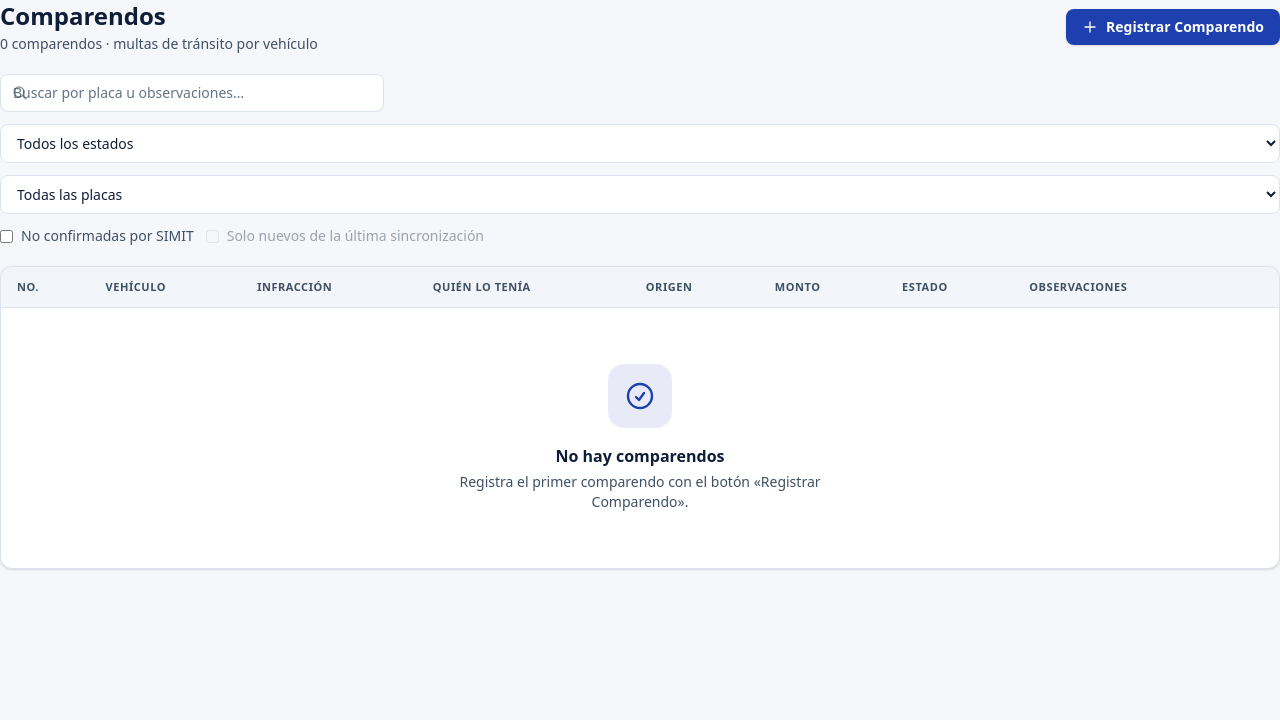
Test: página de Comparendos › registra un comparendo desde el modal
Check: the heading "No hay comparendos" is shown, box x1=556 y1=444 x2=724 y2=468
Click the button "Registrar Comparendo" at coordinates (1173, 27), box x1=1066 y1=9 x2=1279 y2=45
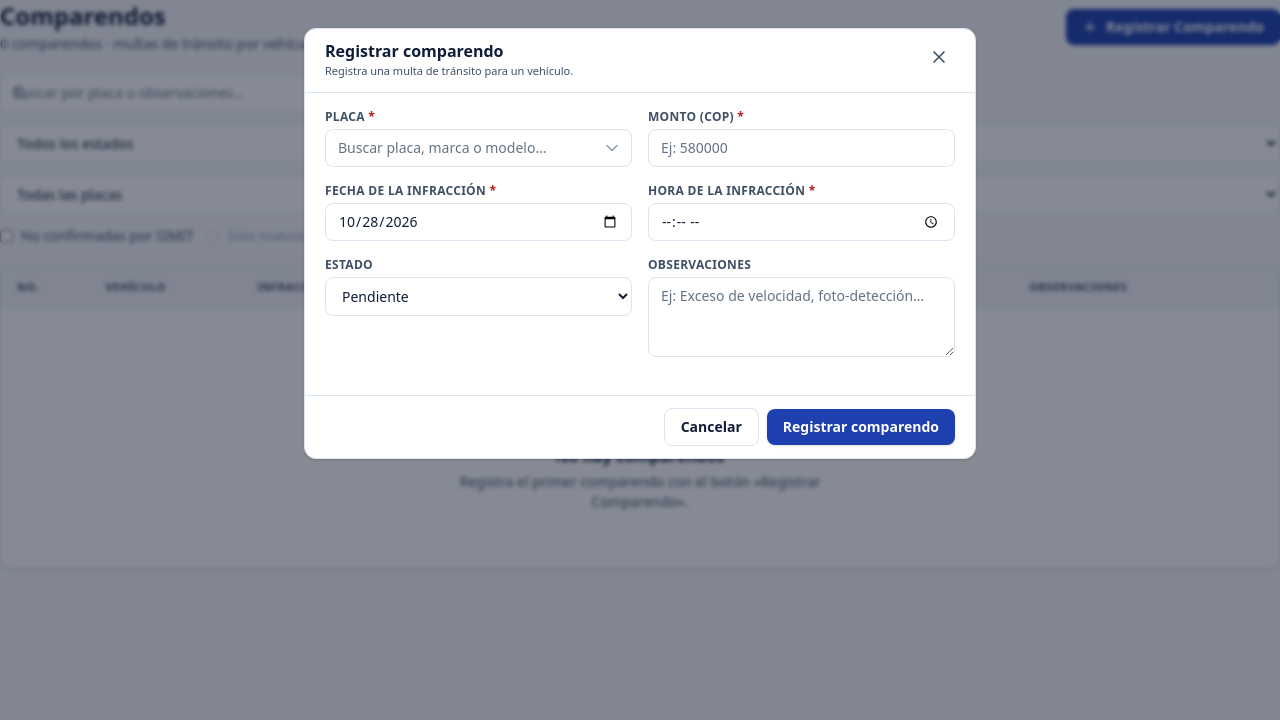
Check: the dialog is shown
// Placa: combobox con búsqueda (escribir placa + Enter selecciona la coincidencia)
Type "ABC123" into the dropdown with placeholder "Buscar placa, marca o modelo…" at coordinates (478, 148), box x1=325 y1=128 x2=632 y2=166
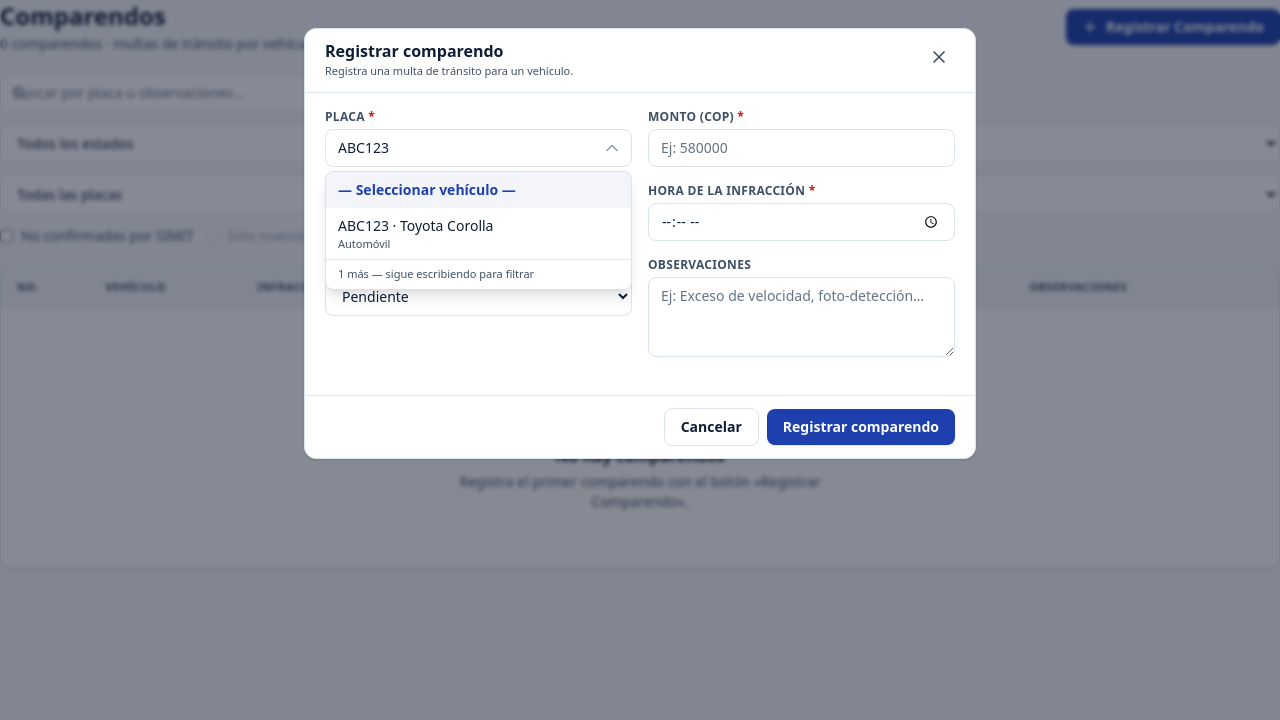
Press Enter in the dropdown with placeholder "Buscar placa, marca o modelo…", box x1=325 y1=128 x2=632 y2=166
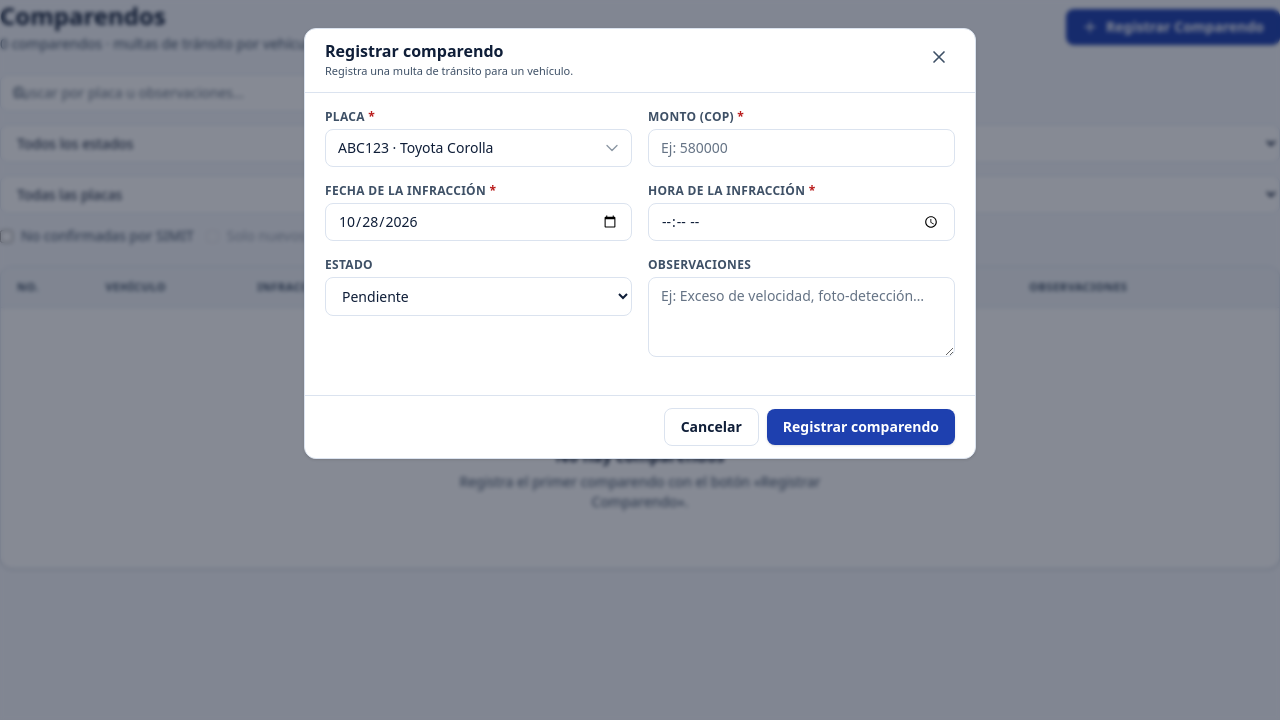
Type "580000" into the field with placeholder "Ej: 580000" at coordinates (802, 148), box x1=648 y1=128 x2=955 y2=166
Type "14:30" into the time field with placeholder "HH:MM" at coordinates (802, 222), box x1=648 y1=202 x2=955 y2=241
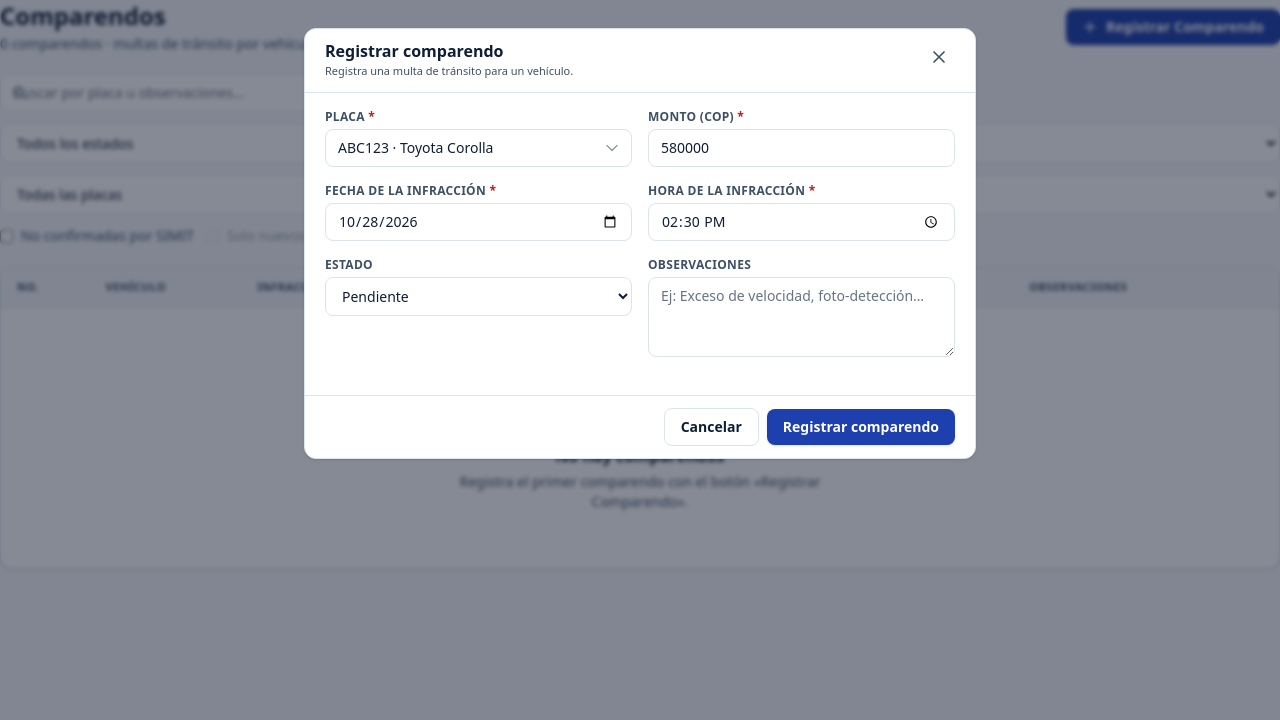
Type "Exceso de velocidad" into the text box with placeholder "Ej: Exceso de velocidad, foto-detección…" at coordinates (802, 317), box x1=648 y1=277 x2=955 y2=357
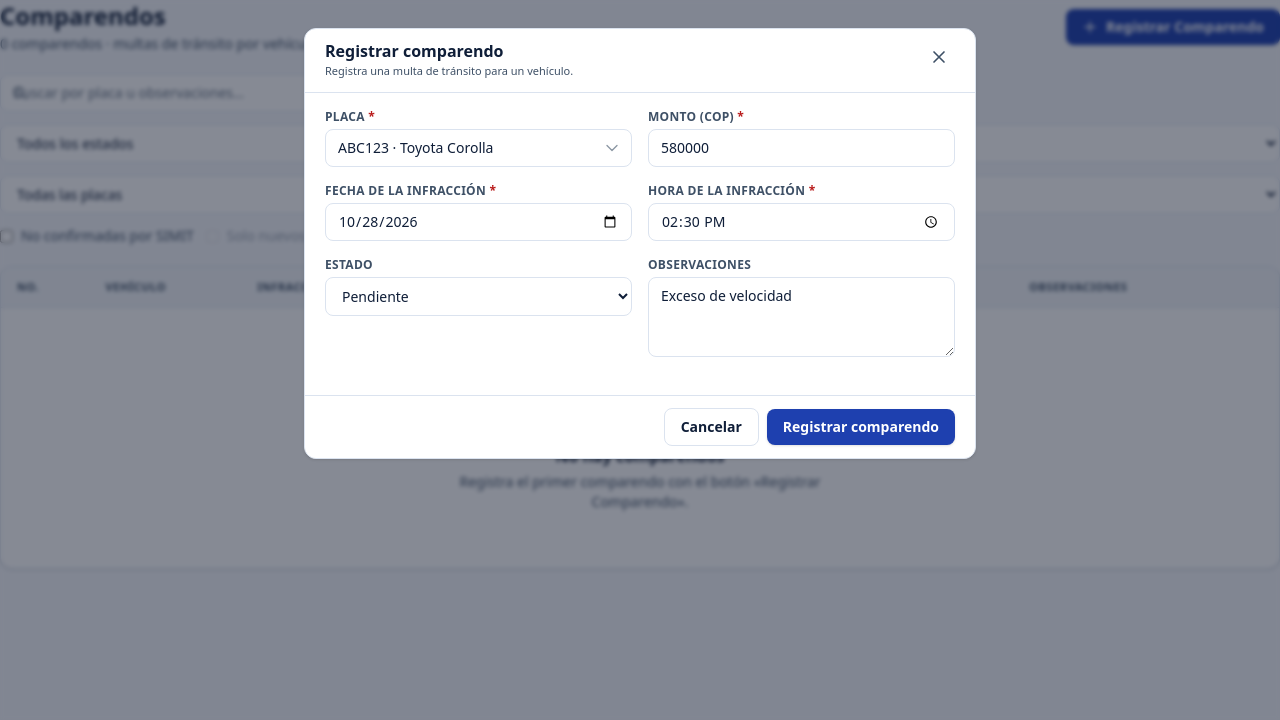
Click the button "Registrar comparendo" at coordinates (861, 427), box x1=767 y1=409 x2=955 y2=445
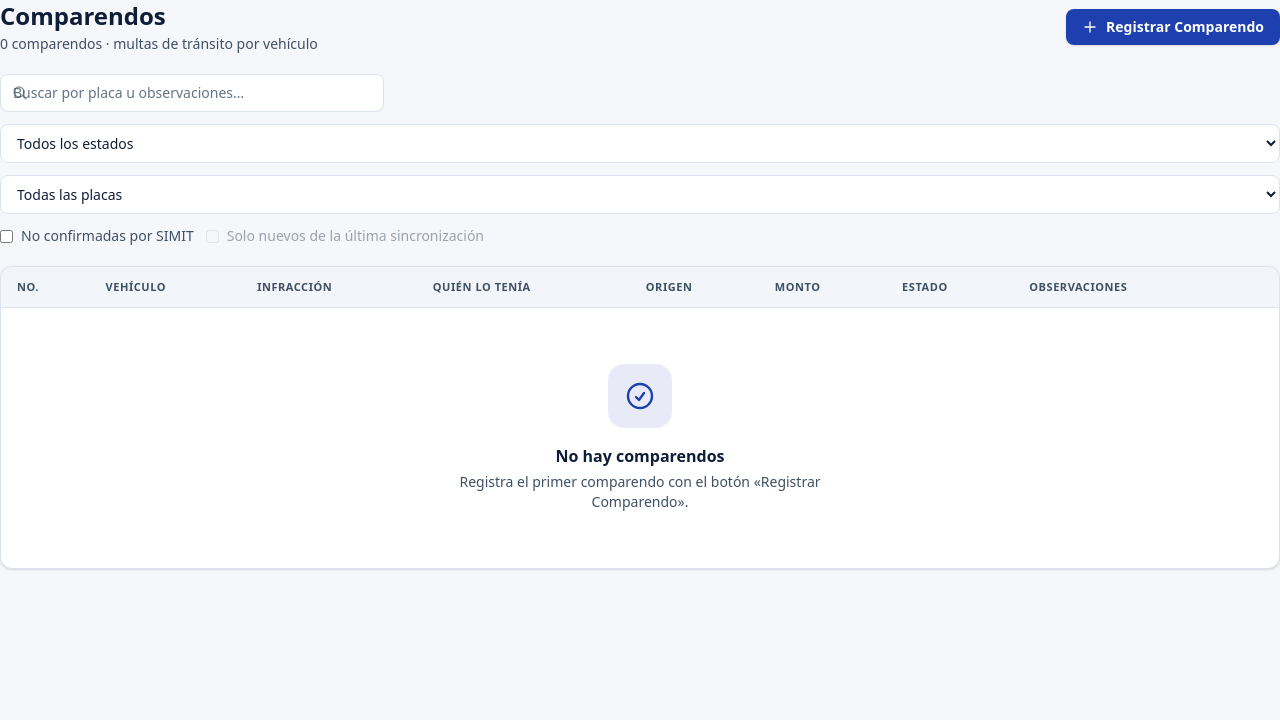
Check: the dialog is gone
